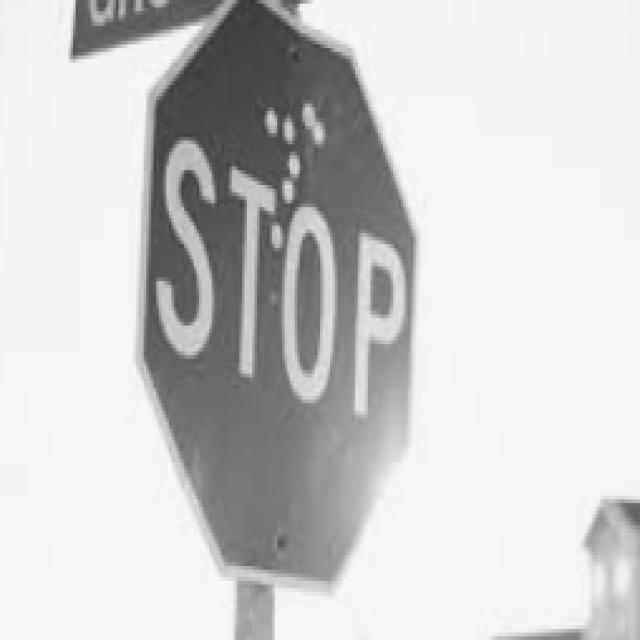Stop-signs: (135, 0, 420, 592)
